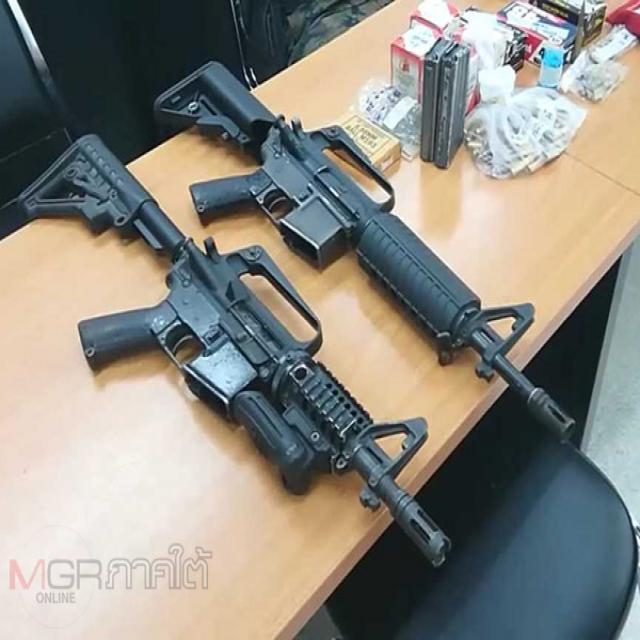m16: (144, 0, 608, 455)
